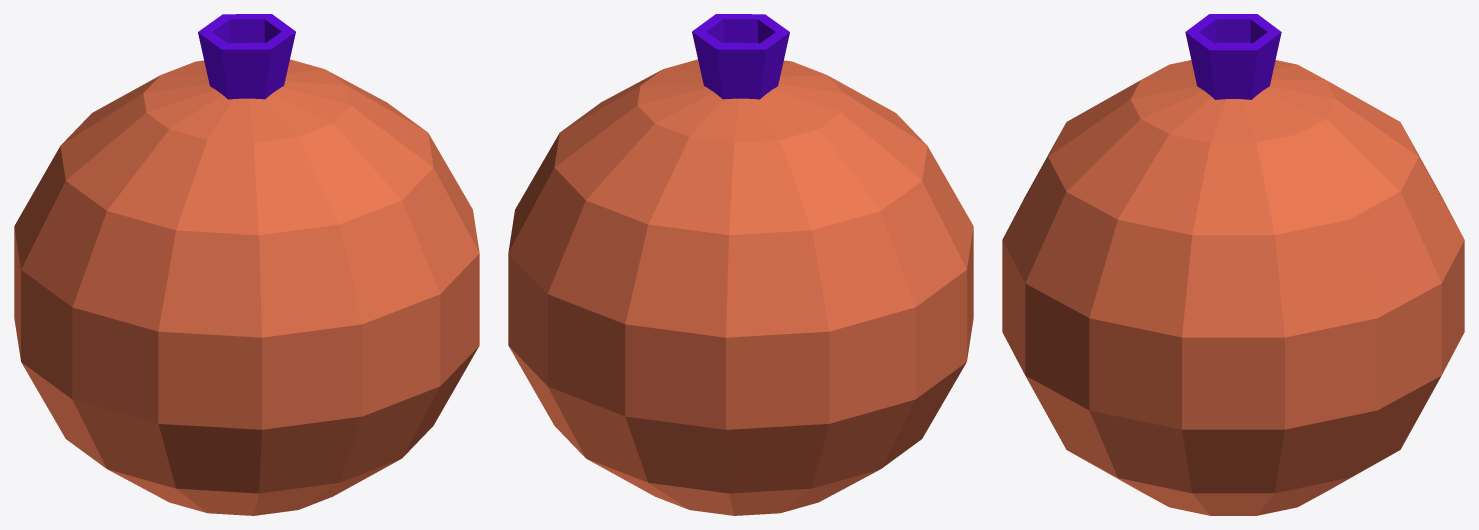
The model's file is Bomb2.fbx.
3 renders of one model, left to right at view 1: azimuth 30°, elevation 25°; view 2: azimuth 150°, elevation 25°; view 3: azimuth 270°, elevation 25°, orthographic.
Parts seen in each view (by area): view 1: Circle; view 2: Circle; view 3: Circle.
Part boxes in pixels (x1=…): Circle: x1=14, y1=14, x2=479, y2=515; Circle: x1=508, y1=14, x2=973, y2=515; Circle: x1=1002, y1=14, x2=1464, y2=515.
Bounding box in the file's own units: 100 × 110 × 100.
